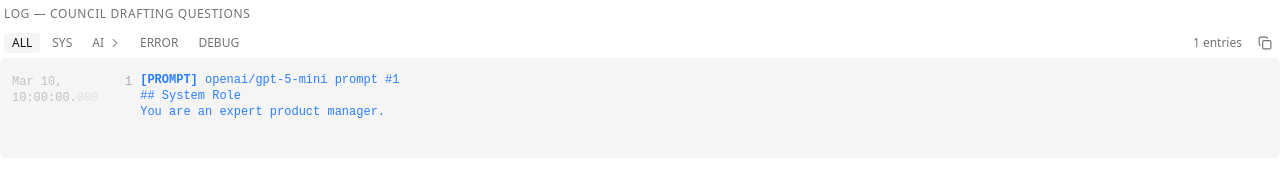
Test: PhaseLogPanel › shows prompt entries in ALL and AI while keeping generic AI session details AI-only
(page scrolled)
Expected: the text "You are an expert product manager" is shown, [140,73,400,119]
Expected: the text "Session status: running" is not shown
Click the button "AI".
click(95, 43)  # box [84,33,106,53]
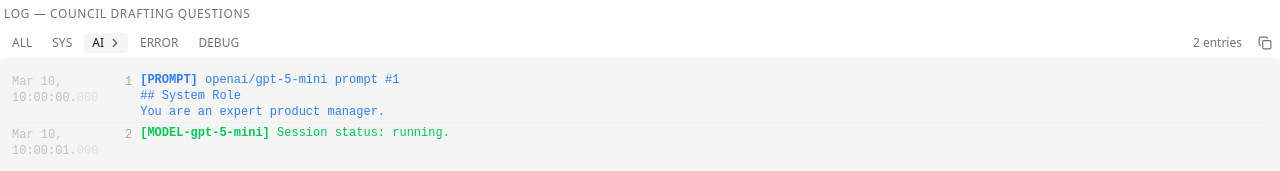
Expected: the text "openai/gpt-5-mini prompt #1" is shown, [140,73,400,119]
Now the text "[MODEL-gpt-5-mini] Session status: running." is shown, box [140,126,450,140]
